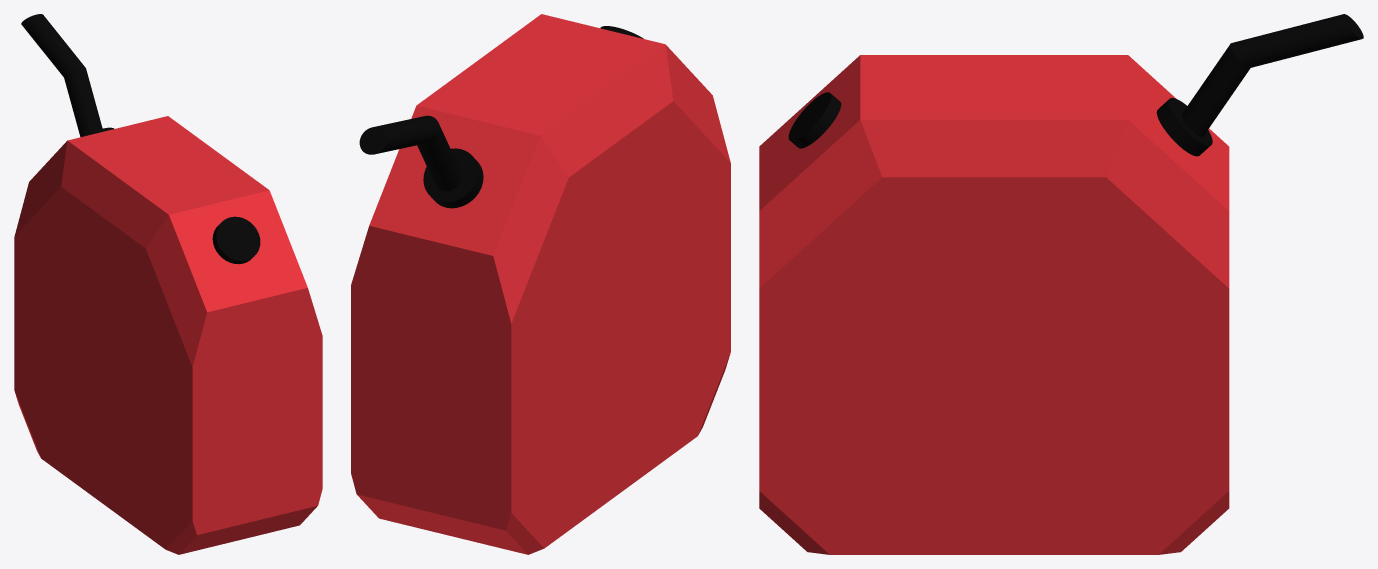
Rendered from LowPolyGasCanister.fbx.
The picture shows the model from 3 angles, left to right: view 1: azimuth 30°, elevation 25°; view 2: azimuth 150°, elevation 25°; view 3: azimuth 270°, elevation 25°; orthographic projection. The views are drawn at different scales.
Visible parts, largest first — view 1: Cube, Cylinder, Cylinder.001; view 2: Cube, Cylinder, Cylinder.002; view 3: Cube, Cylinder, Cylinder.001, Cylinder.002.
Part boxes in pixels (x1,y1,x2,y2): Cube: [14, 116, 322, 554]; Cylinder: [21, 14, 102, 136]; Cylinder.001: [212, 216, 260, 264]; Cube: [351, 14, 730, 554]; Cylinder: [359, 115, 461, 191]; Cylinder.002: [423, 148, 483, 208]; Cube: [759, 55, 1229, 554]; Cylinder: [1182, 14, 1363, 136]; Cylinder.001: [788, 92, 841, 148]; Cylinder.002: [1156, 98, 1212, 156].
Size of the model in its own units: 84.28 by 234 by 257.
